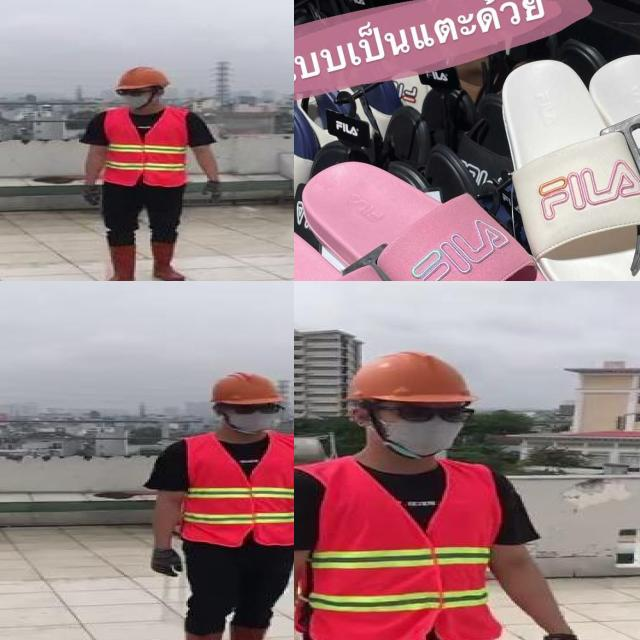Sandals: (489, 28, 640, 281), (294, 154, 594, 281)
boots: (148, 241, 187, 281), (103, 245, 139, 281), (229, 623, 279, 640)
face_mask: (379, 398, 475, 459), (224, 401, 282, 434), (115, 87, 154, 109)
glasses: (382, 400, 486, 428), (229, 400, 284, 418), (109, 86, 150, 98)
hand_glove: (147, 549, 186, 579), (81, 182, 102, 204), (200, 180, 223, 200)
head_helmet: (342, 348, 480, 409), (206, 370, 286, 408), (116, 66, 172, 90)
person: (294, 340, 603, 640), (141, 366, 294, 640), (68, 64, 228, 281)
vest: (301, 461, 500, 640), (182, 431, 294, 547), (102, 108, 188, 185)
